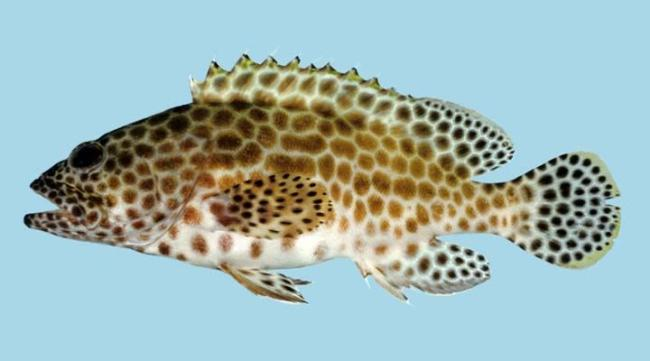fish: (23, 47, 624, 306)
